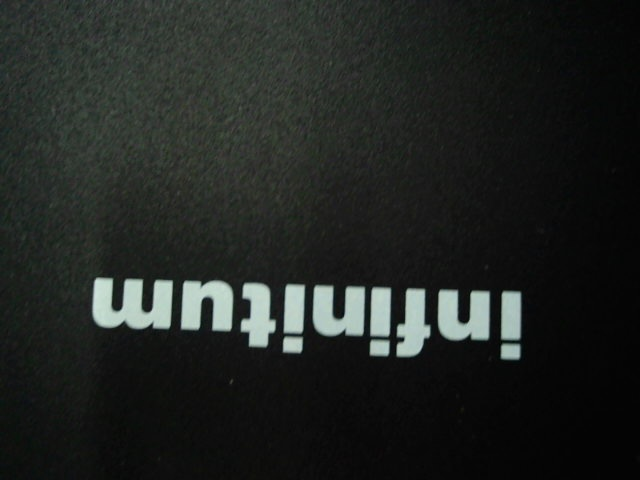BK_infinitum: (78, 265, 535, 375)
